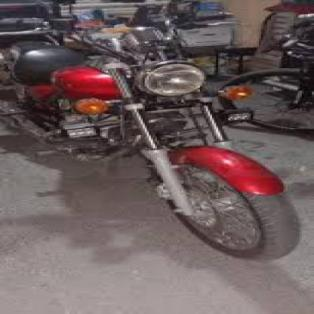Motocicleta: (0, 0, 312, 268)
